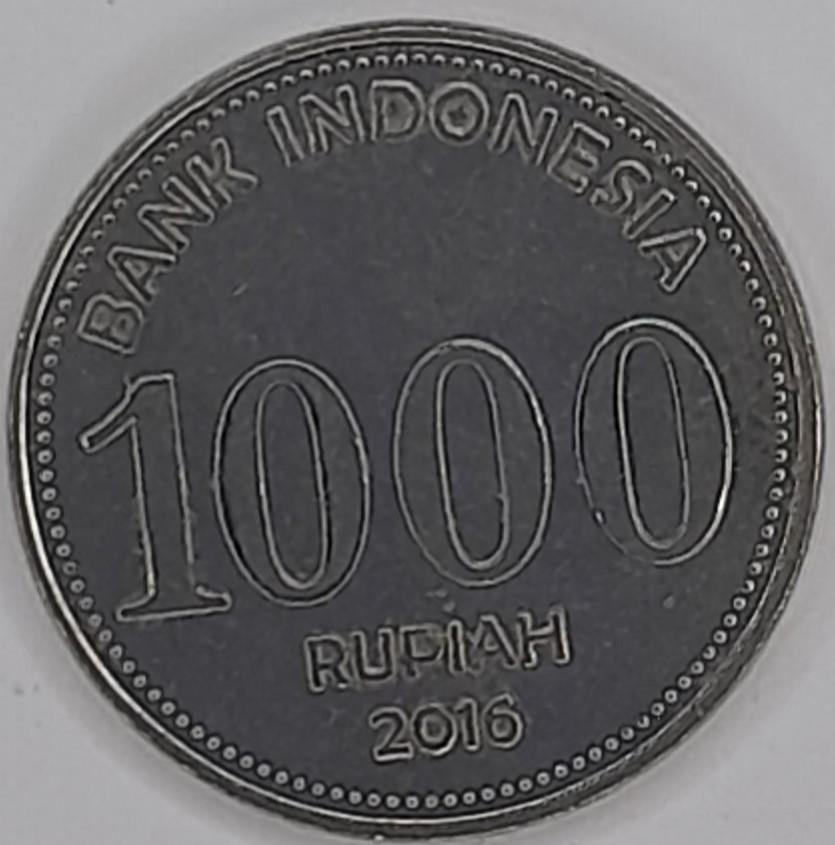coin_1000_e2016: (14, 17, 824, 845)
